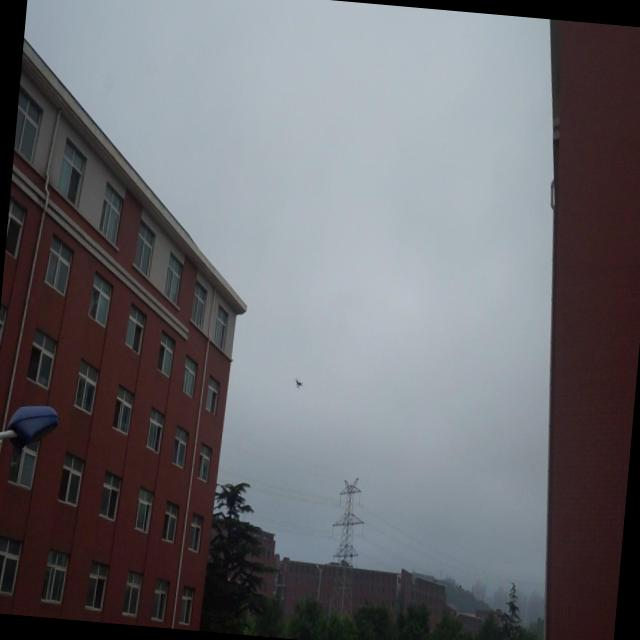drone: (292, 374, 304, 392)
